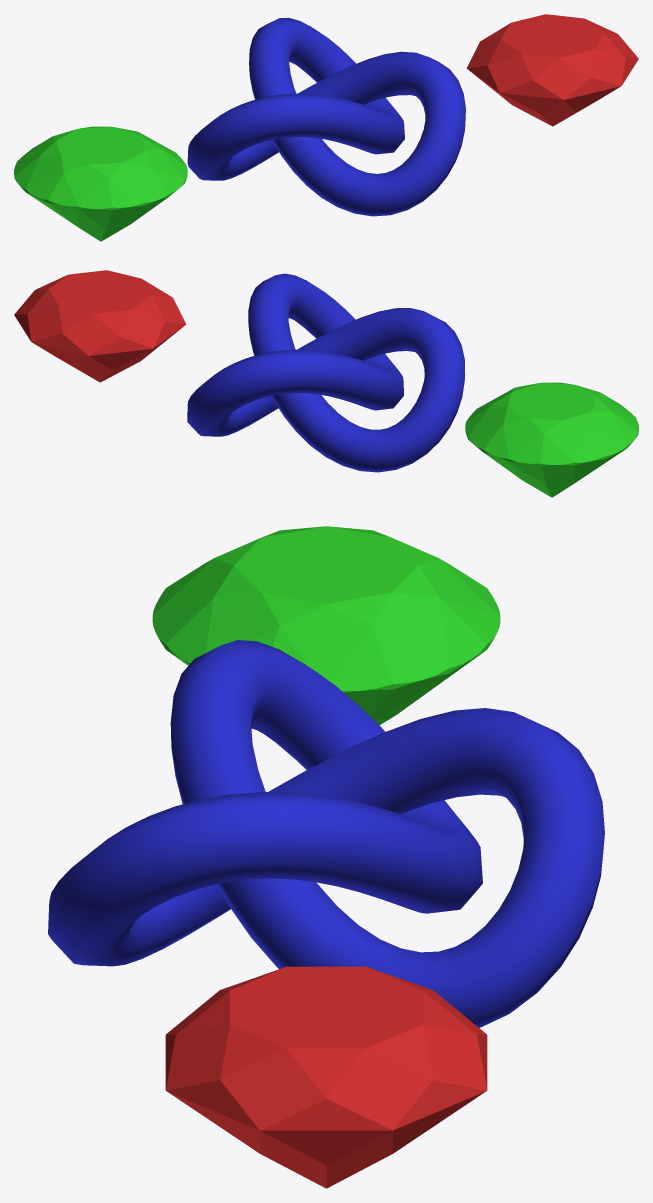
The picture shows the model from 3 angles, top to bottom: view 1: azimuth 30°, elevation 25°; view 2: azimuth 150°, elevation 25°; view 3: azimuth 270°, elevation 25°; orthographic projection. The views are drawn at different scales.
Visible parts, largest first — view 1: Torus Knot, dobj, Gem; view 2: Torus Knot, dobj, Gem; view 3: Torus Knot, Gem, dobj.
Part boxes in pixels (x1,y1,x2,y2): Torus Knot: (187, 17, 465, 216); dobj: (14, 126, 187, 241); Gem: (466, 14, 638, 126); Torus Knot: (187, 273, 465, 472); dobj: (465, 382, 638, 497); Gem: (14, 270, 186, 382); Torus Knot: (48, 640, 604, 1027); Gem: (165, 966, 487, 1188); dobj: (152, 526, 500, 725).
Size of what is drawn, in the model's own units: 7.92 by 1.6 by 3.2.
